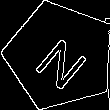N_NE: (27, 24, 93, 88)
